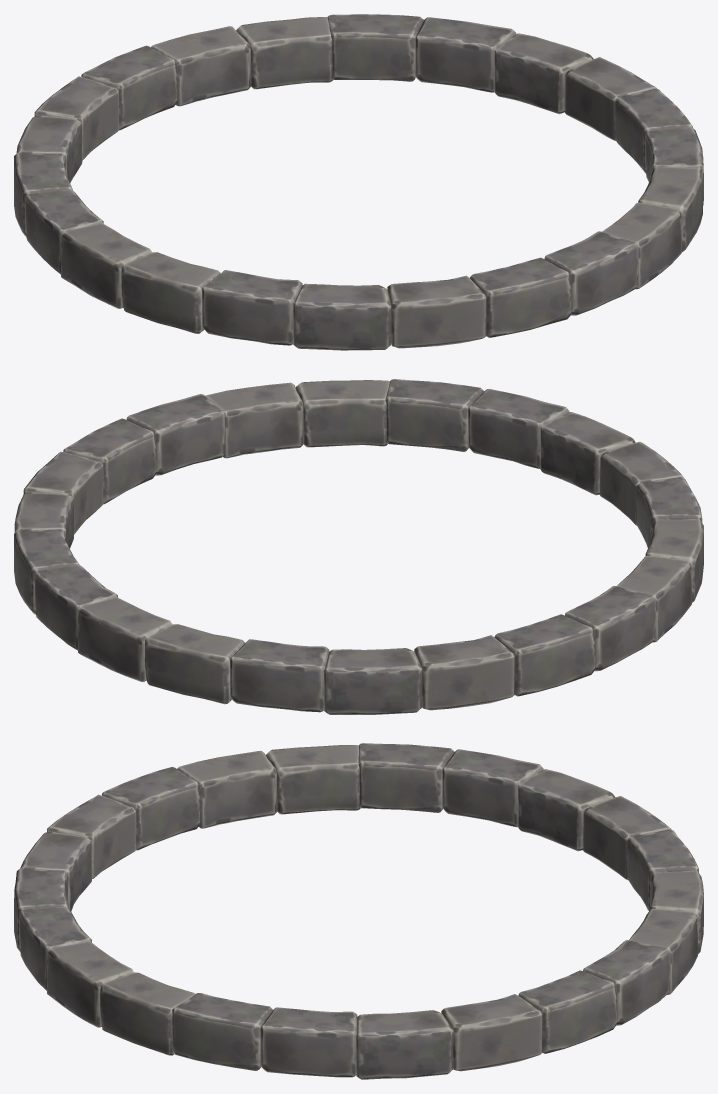
File: FloorCenterPiece_Border.fbx
3 renders of one model, top to bottom at view 1: azimuth 30°, elevation 25°; view 2: azimuth 150°, elevation 25°; view 3: azimuth 270°, elevation 25°, orthographic.
Visible parts, largest first — view 1: FloorCenterpiece_border; view 2: FloorCenterpiece_border; view 3: FloorCenterpiece_border.
Part boxes in pixels (box(x1,y1,x2,y2)): FloorCenterpiece_border: box(14, 14, 703, 350); FloorCenterpiece_border: box(14, 379, 703, 714); FloorCenterpiece_border: box(14, 743, 703, 1079).
Bounding box in the file's own units: 807 × 62.82 × 807.
